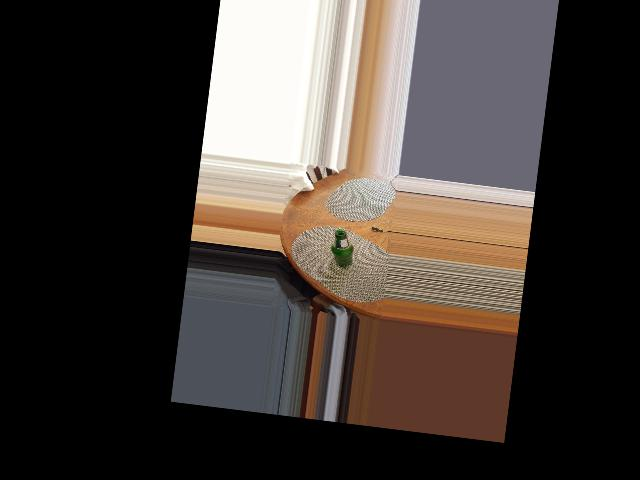beer: (328, 228, 355, 268)
